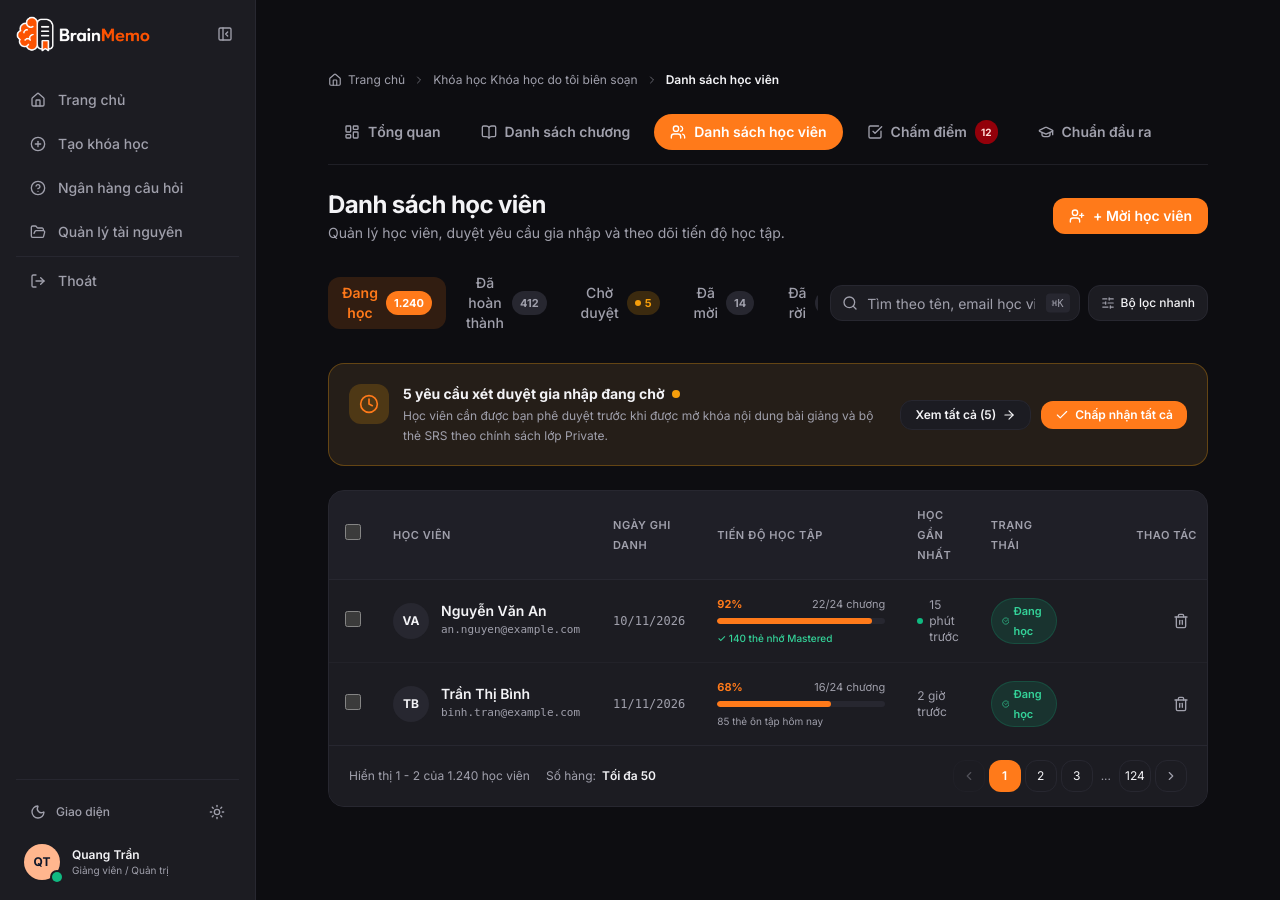
Test case: S4 Enrollment & Learning Suite (SCR-CRS-05, SCR-CRS-06, SCR-LRN-01, SCR-LRN-07) › SCR-CRS-05: Quản lý học viên (/courses/:courseId/manage/students) › allows opening invite modal and inviting a student
Click the button "+ Mời học viên". click: coordinates (1130, 216)
box: [1053,198,1208,234]
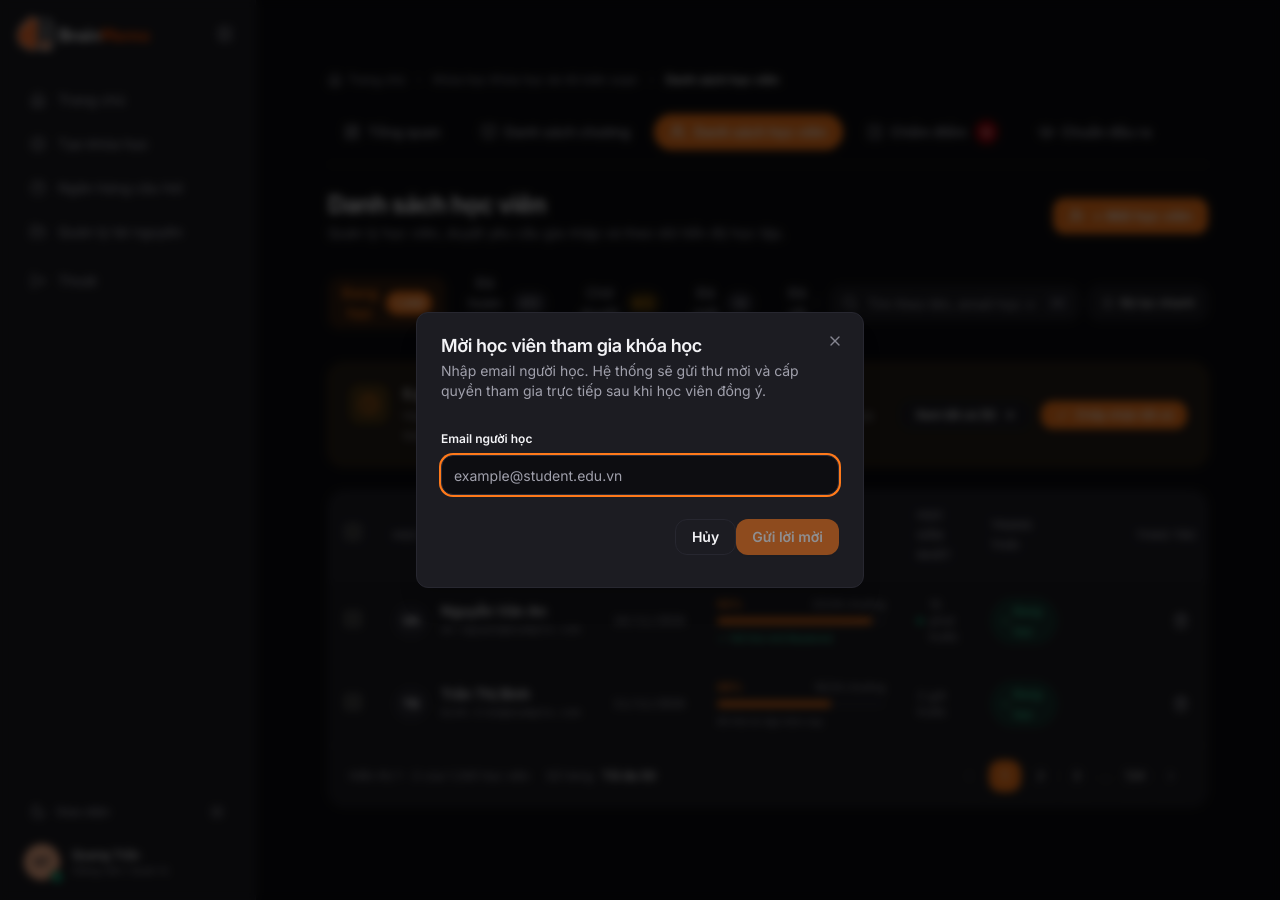
Expected: the dialog is shown, [416,312,864,588]
Expected: the field labelled "Email người học" is shown
Type "newstudent@example.com" into the field labelled "Email người học". click: coordinates (640, 475)
box: [441,455,839,495]
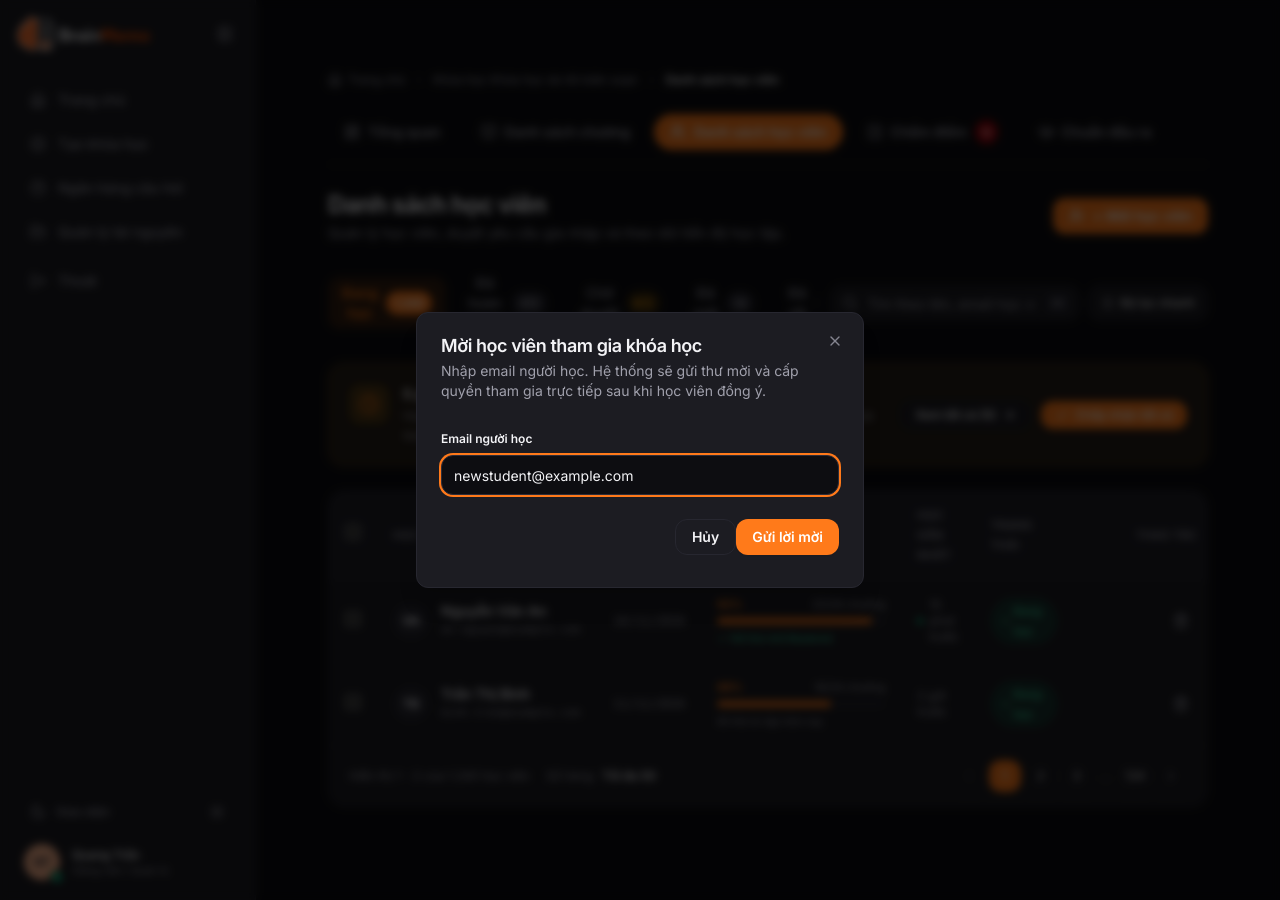
Click the button "Gửi lời mời". click: coordinates (788, 537)
box: [736,519,839,555]
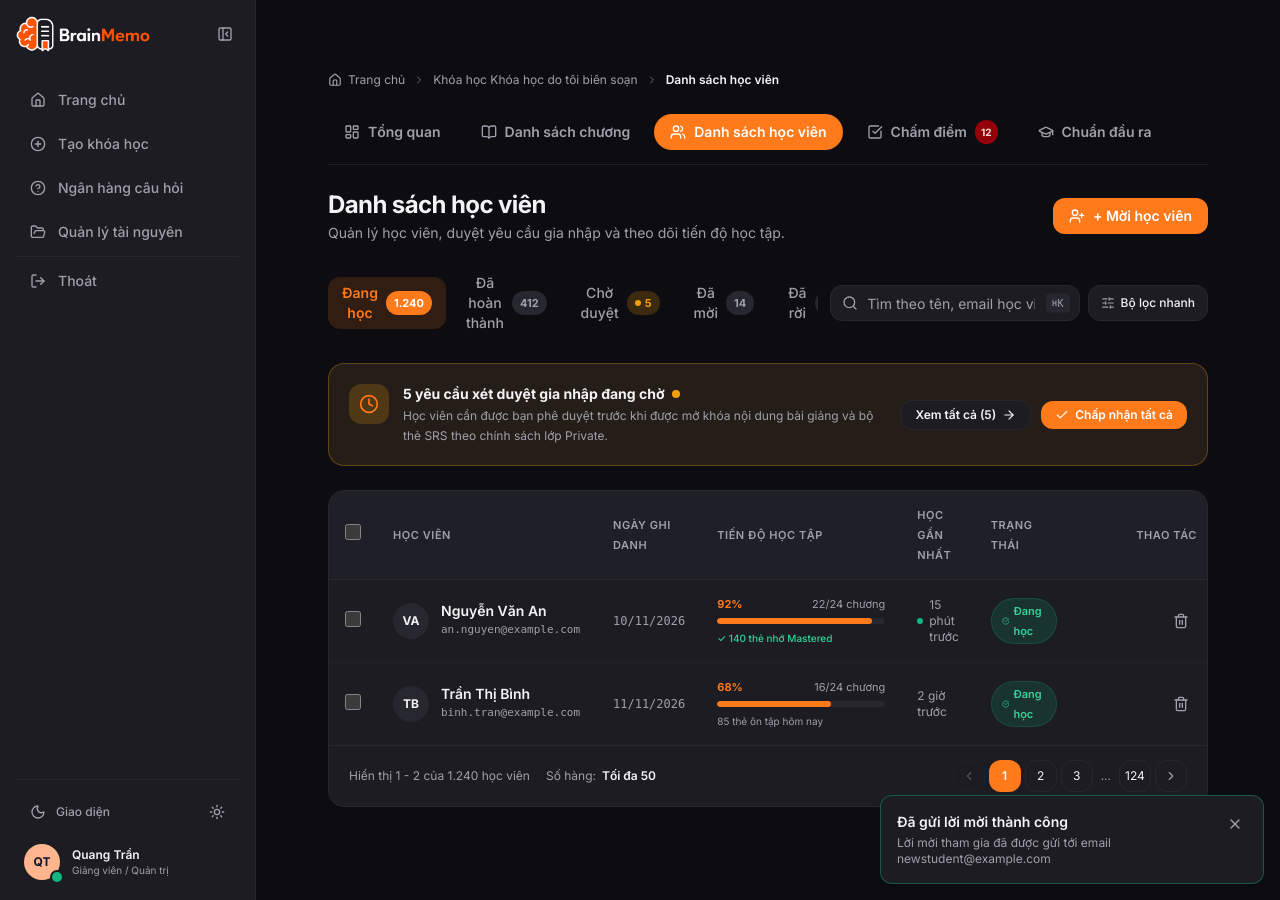
Expected: the dialog is gone
